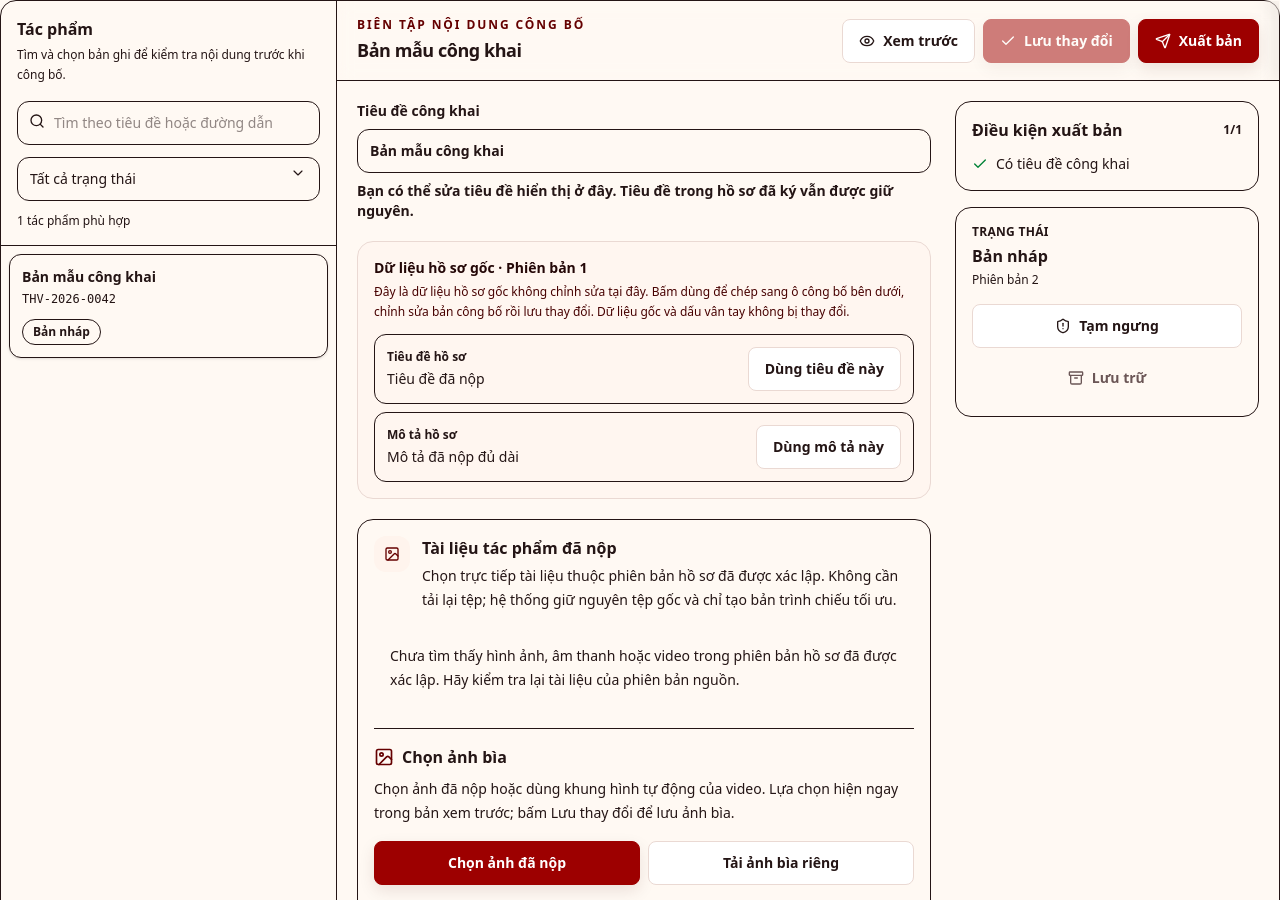
Test: PublicWorkEditor › keeps unsaved edits open while filtering the list
The width and height of the screenshot is (1280, 900).
Type " đang sửa" into the field labelled "Tiêu đề công khai". click: (644, 151)
box: left=357, top=129, right=931, bottom=173
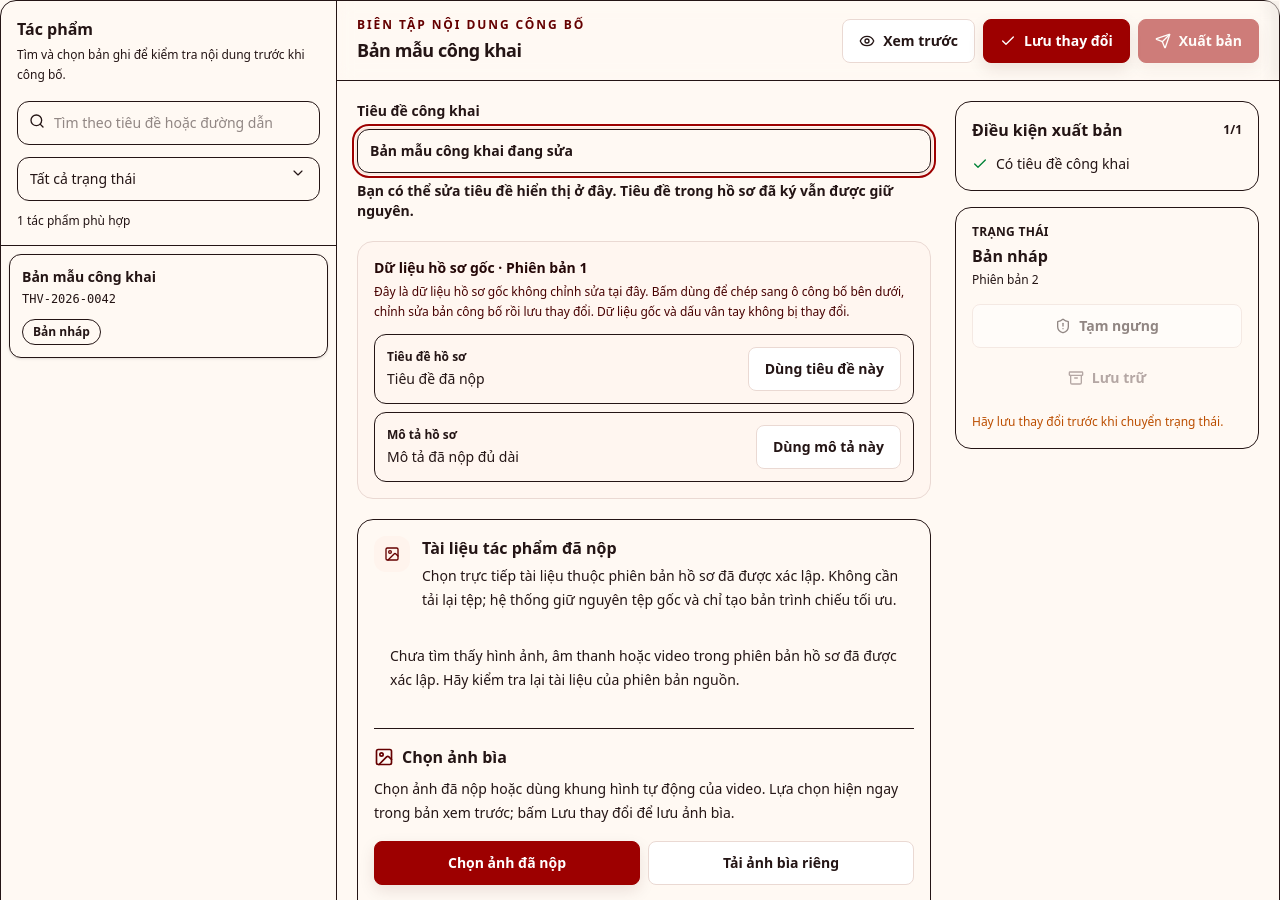
Type "khác" into the search field named "Tìm tác phẩm". click: (168, 123)
box: left=17, top=101, right=320, bottom=145
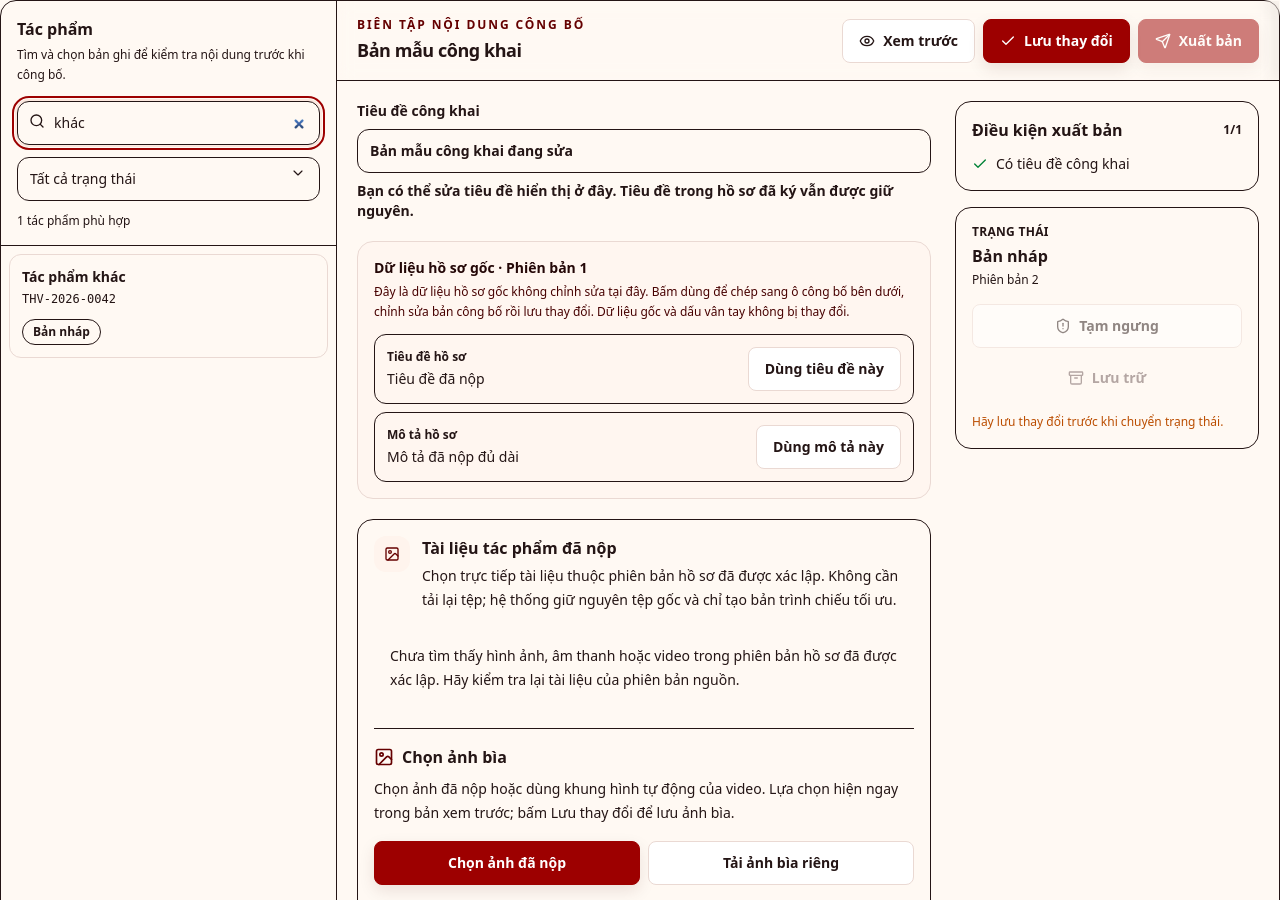
Now the field labelled "Tiêu đề công khai" holds "Bản mẫu công khai đang sửa", box left=357, top=129, right=931, bottom=173
Now the button "Tác phẩm khác THV-2026-0042 Bản nháp" is shown, box left=9, top=254, right=328, bottom=358
